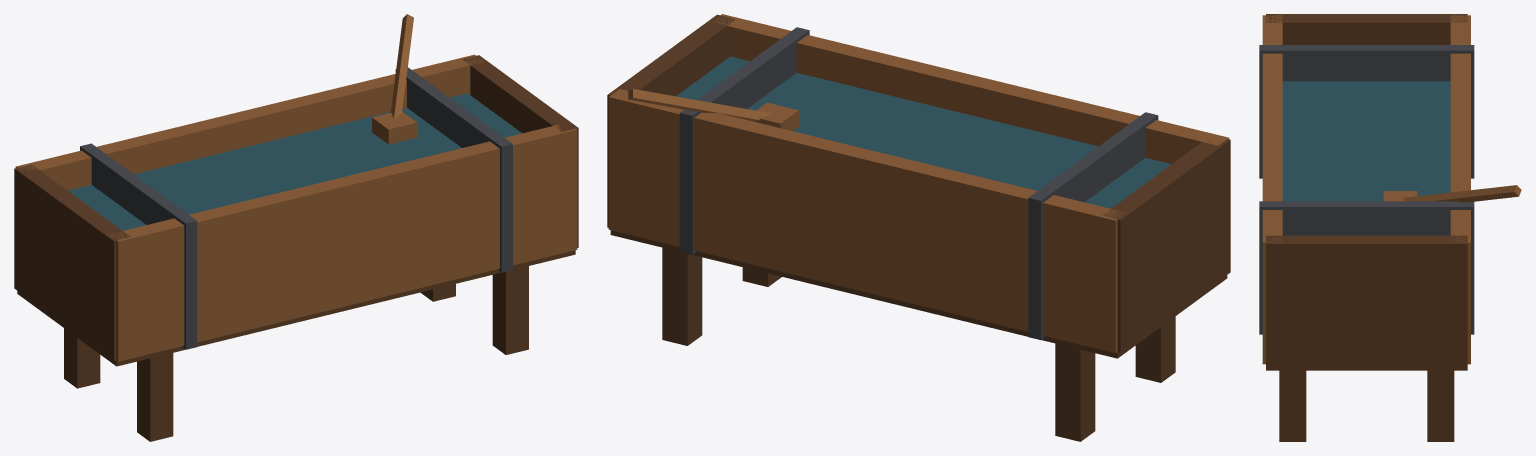
File: mine_water_trough.glb
3 renders of one model, left to right at view 1: azimuth 30°, elevation 25°; view 2: azimuth 150°, elevation 25°; view 3: azimuth 270°, elevation 25°, orthographic. The views are drawn at different scales.
Parts seen in each view (by area): view 1: mine_water_trough; view 2: mine_water_trough; view 3: mine_water_trough.
Part boxes in pixels (<box>): mine_water_trough: <box>14,14,578,441</box>; mine_water_trough: <box>607,14,1230,441</box>; mine_water_trough: <box>1259,14,1521,441</box>.
Bounding box in the file's own units: 1.62 × 0.8363 × 0.781.
